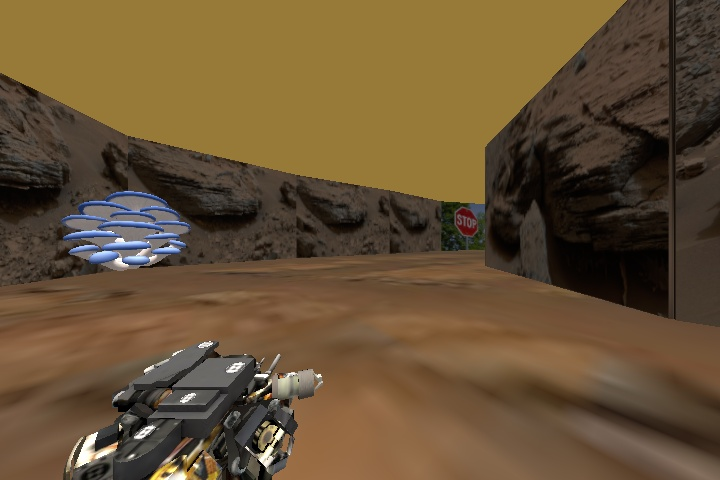mushroom: (61, 189, 189, 272)
sign: (452, 206, 481, 237)
